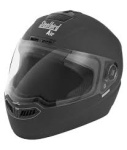Helmet: (4, 9, 124, 140)
